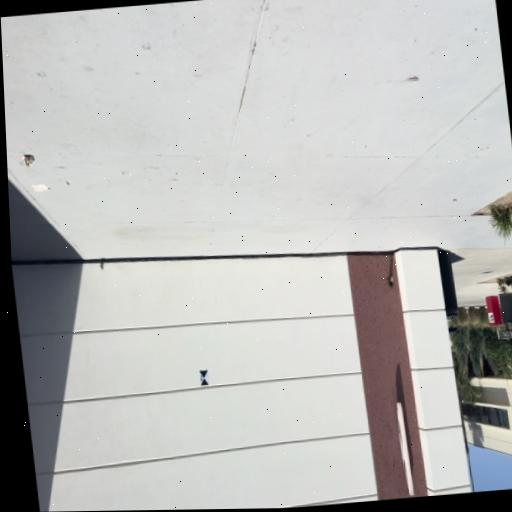target7: (199, 370, 210, 386)
